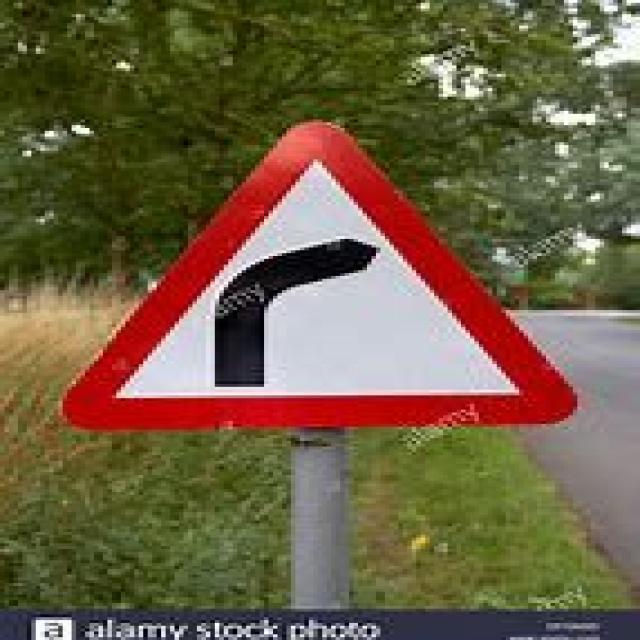right hand curve: (60, 122, 573, 427)
